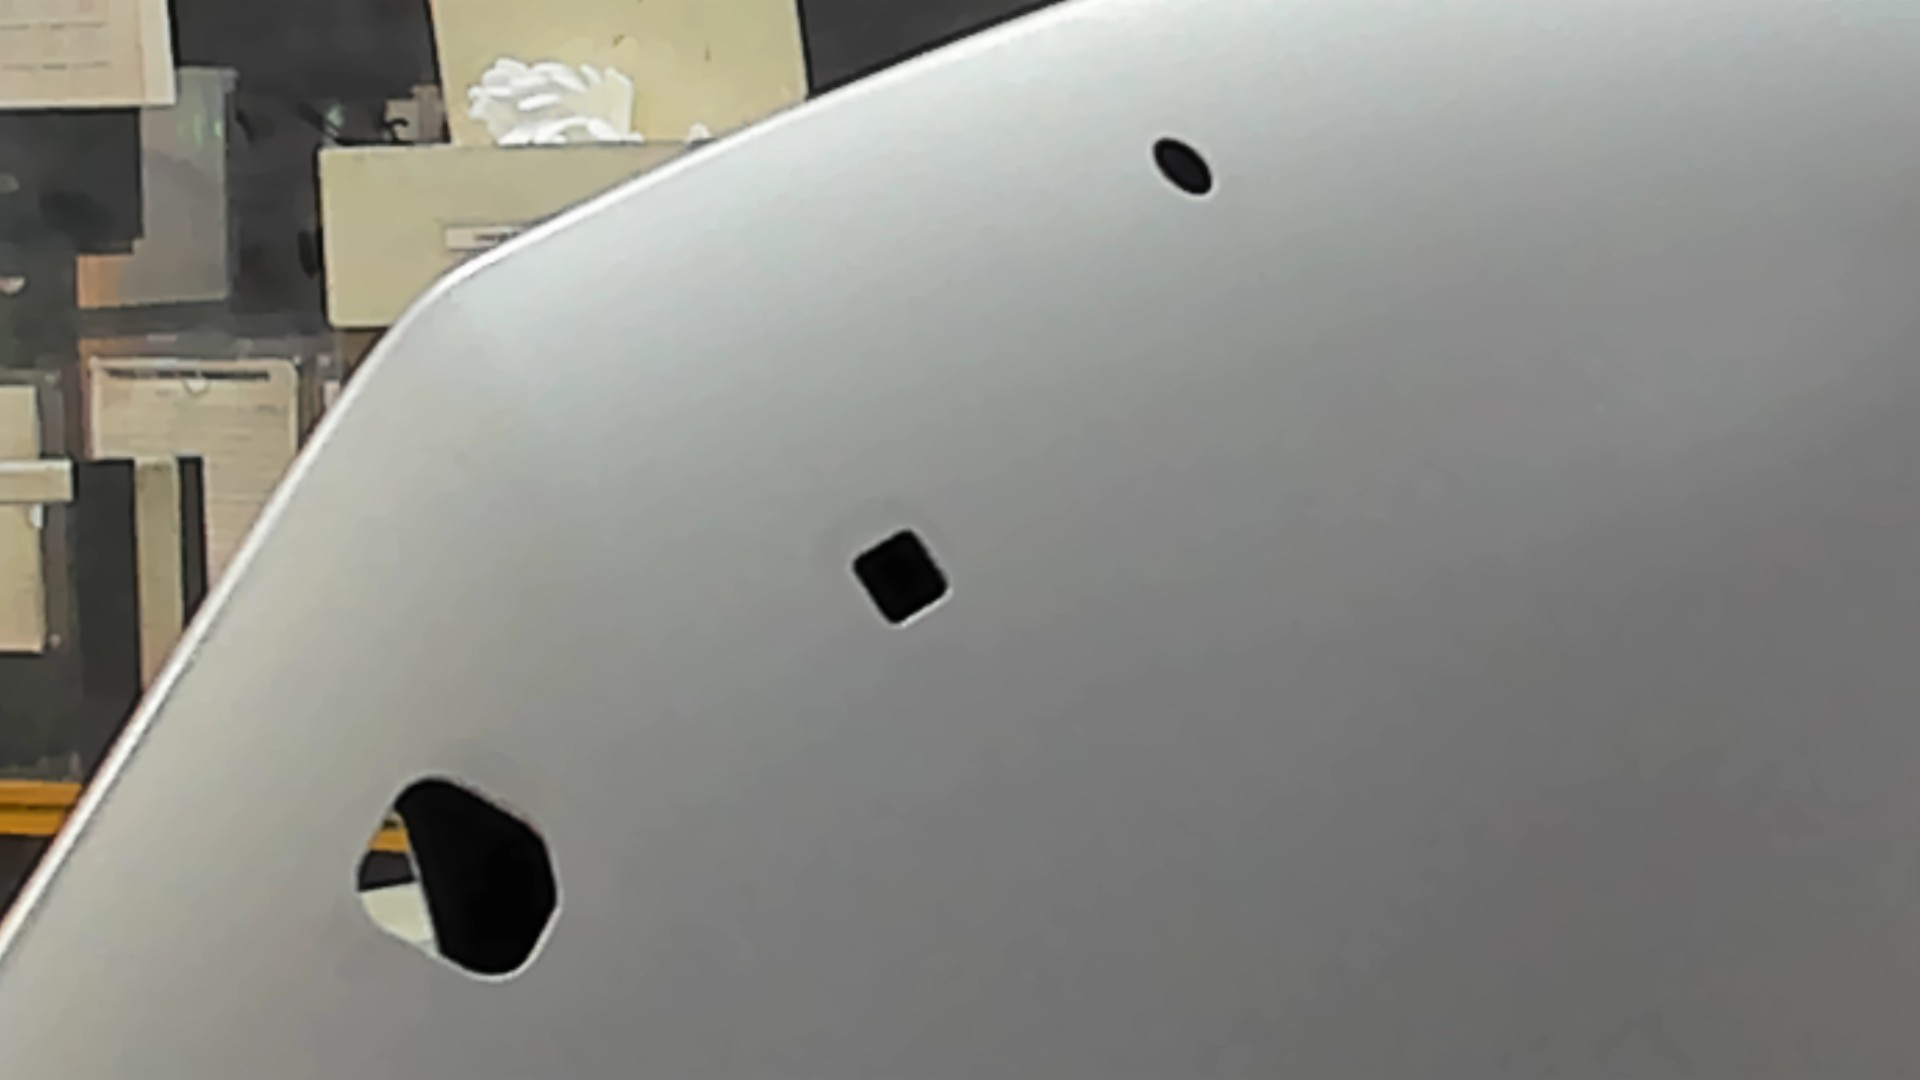Agujero: (849, 527, 949, 629), (1151, 136, 1213, 196)
Agujerote: (353, 775, 563, 981)
